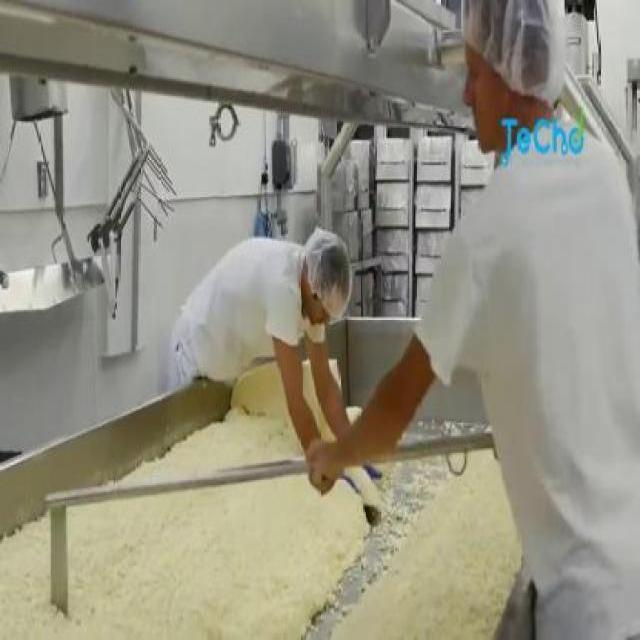bare_hand: (306, 429, 351, 514)
